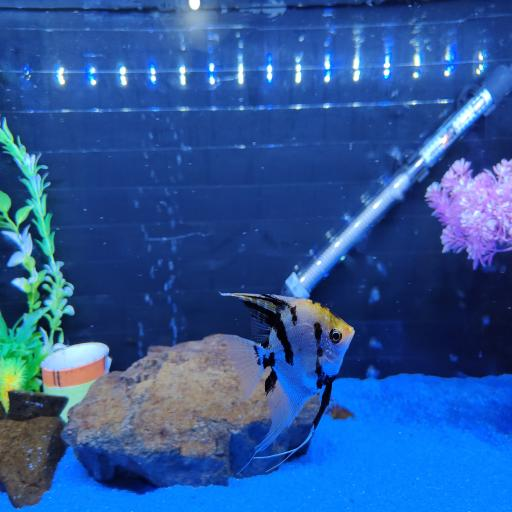Fish: (221, 294, 354, 473)
